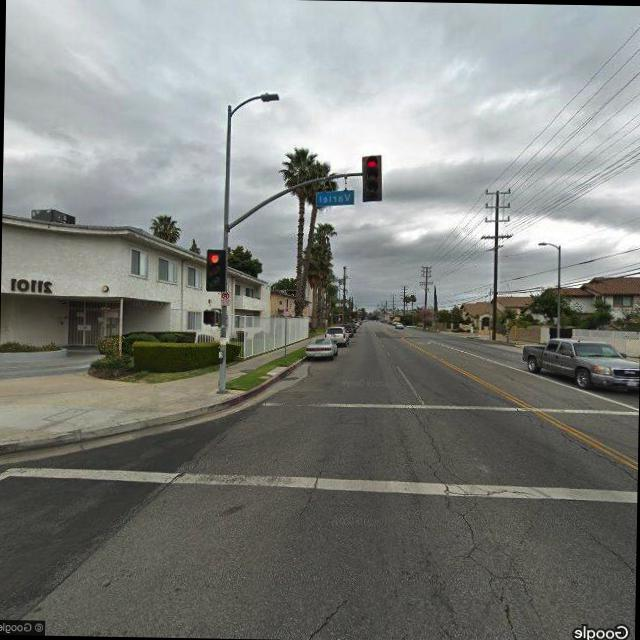pothole: (410, 402, 534, 640), (576, 518, 636, 584), (296, 444, 340, 522), (298, 592, 364, 640)
